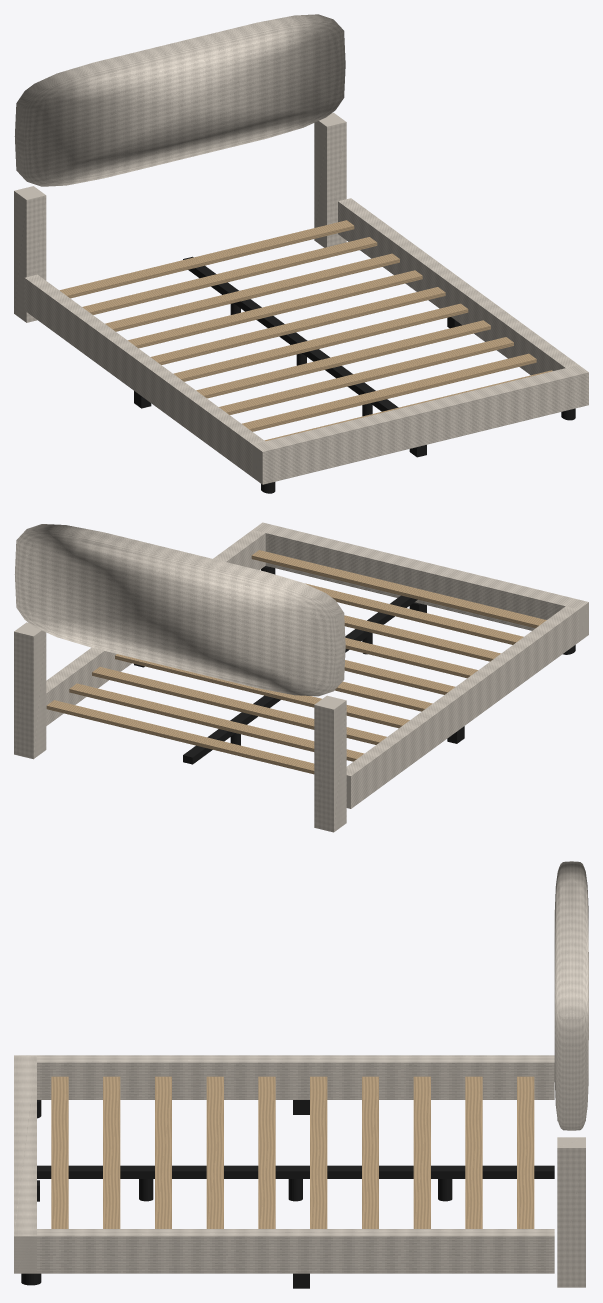
The picture shows the model from 3 angles, top to bottom: view 1: azimuth 30°, elevation 25°; view 2: azimuth 150°, elevation 25°; view 3: azimuth 270°, elevation 25°; orthographic projection. The views are drawn at different scales.
Parts seen in each view (by area): view 1: 1 headboard, 6 footboard, 4 side_rail_left, 5 side_rail_right, 3 headboard_post_right, 2 headboard_post_left, 21 slat_6, 17 slat_2, 19 slat_4, 20 slat_5, 23 slat_8, 16 slat_1 (+4 smaller); view 2: 1 headboard, 4 side_rail_left, 6 footboard, 2 headboard_post_left, 3 headboard_post_right, 5 side_rail_right, 25 slat_10, 16 slat_1, 17 slat_2, 18 slat_3, 24 slat_9, 19 slat_4 (+5 smaller); view 3: 5 side_rail_right, 4 side_rail_left, 1 headboard, 6 footboard, 12 center_support_beam, 3 headboard_post_right, 17 slat_2, 21 slat_6, 25 slat_10, 16 slat_1, 18 slat_3, 20 slat_5 (+4 smaller).
Part boxes in pixels (x1,y1,x2,y2): 1 headboard: (14,14,345,186); 6 footboard: (252,365,588,484); 4 side_rail_left: (24,274,264,476); 5 side_rail_right: (338,198,578,375); 3 headboard_post_right: (314,113,346,247); 2 headboard_post_left: (14,186,46,322); 21 slat_6: (173,303,468,381); 17 slat_2: (82,237,377,314); 19 slat_4: (128,270,422,348); 20 slat_5: (150,287,445,364); 23 slat_8: (219,337,513,414); 16 slat_1: (59,220,354,298); 1 headboard: (14,524,345,696); 4 side_rail_left: (346,606,578,808); 6 footboard: (253,522,588,641); 2 headboard_post_left: (314,695,346,832); 3 headboard_post_right: (14,622,46,759); 5 side_rail_right: (46,530,265,725); 25 slat_10: (251,550,546,628); 16 slat_1: (46,700,314,774); 17 slat_2: (69,683,364,761); 18 slat_3: (92,667,386,744); 24 slat_9: (305,583,523,644); 19 slat_4: (115,654,409,728); 5 side_rail_right: (37,1229,554,1273); 4 side_rail_left: (37,1055,554,1099); 1 headboard: (554,861,588,1130); 6 footboard: (14,1055,36,1273); 12 center_support_beam: (37,1165,554,1178); 3 headboard_post_right: (557,1137,585,1287); 17 slat_2: (465,1076,482,1228); 21 slat_6: (258,1076,275,1228); 25 slat_10: (51,1076,68,1228); 16 slat_1: (517,1076,534,1228); 18 slat_3: (413,1076,430,1228); 20 slat_5: (310,1076,327,1228).
Bounding box in the file's own units: 1.46 × 1 × 1.96.
4 materials, 2 textured.
